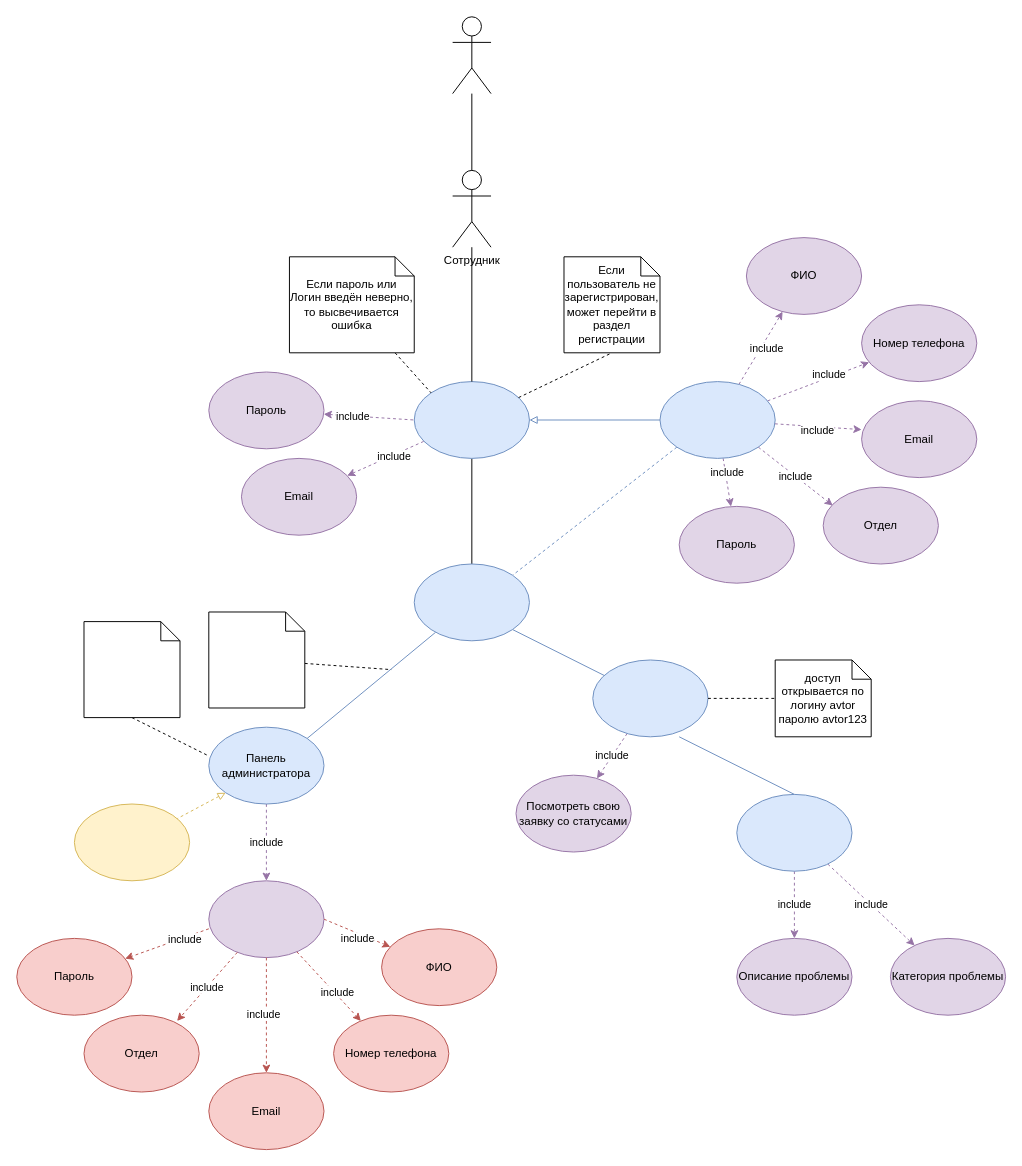
Image size: 1022x1166. Some labels were removed from this diagram. Each missing label, with the centre of its shape:
"Авторизация" goes at point (471, 419).
"Администратор" goes at point (471, 55).
"Видит заявки Сотрудников" goes at point (266, 919).
"Главная страница" goes at point (471, 602).
"Доступ в панель по Логину help паролю helpme" goes at point (131, 669).
"Могут войти только администратор" goes at point (256, 659).
"Может поменять статус заявки" goes at point (131, 842).
"Регистрация" goes at point (717, 419).
"Страница заявок" goes at point (650, 698).
"Страница формирование заявок" goes at point (794, 832).
